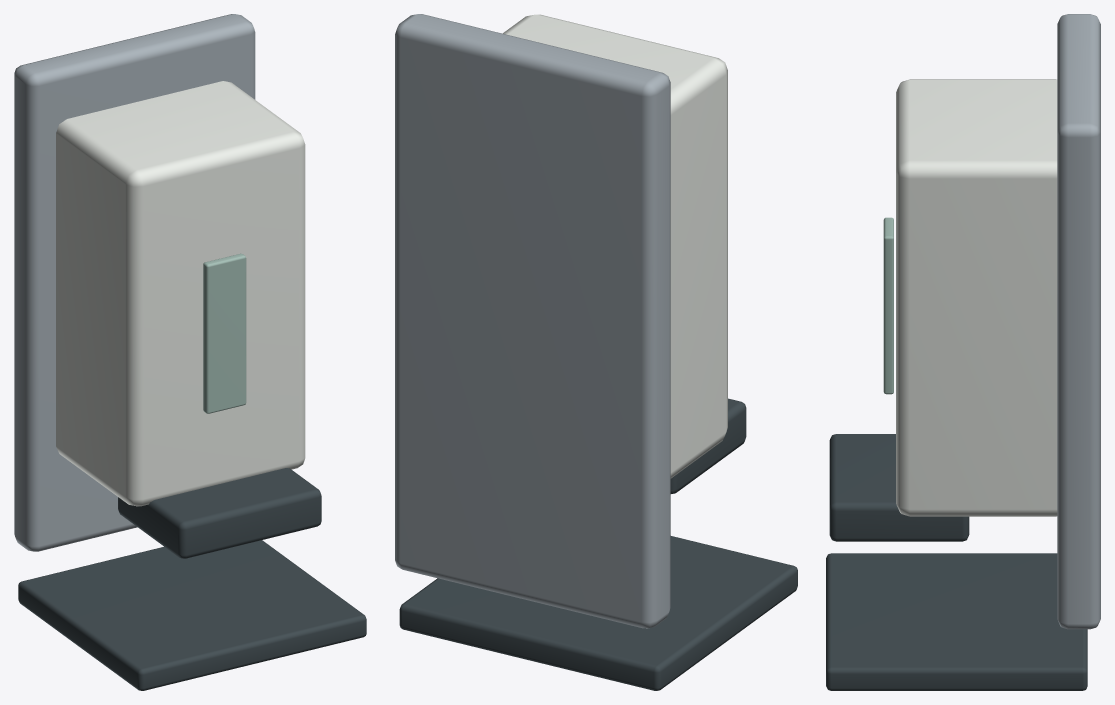
Rendered from handrub.fbx.
3 renders of one model, left to right at view 1: azimuth 30°, elevation 25°; view 2: azimuth 150°, elevation 25°; view 3: azimuth 270°, elevation 25°, orthographic. The views are drawn at different scales.
Parts seen in each view (by area): view 1: EQ_handrub_M_Ivory, EQ_handrub_M_PlasticGrey, EQ_handrub_M_SteelBrushed, EQ_handrub_M_Sage; view 2: EQ_handrub_M_SteelBrushed, EQ_handrub_M_PlasticGrey, EQ_handrub_M_Ivory; view 3: EQ_handrub_M_Ivory, EQ_handrub_M_PlasticGrey, EQ_handrub_M_SteelBrushed, EQ_handrub_M_Sage.
Boxes of the visible parts, x1=… form: EQ_handrub_M_Ivory: x1=56, y1=81, x2=305, y2=506; EQ_handrub_M_PlasticGrey: x1=18, y1=468, x2=366, y2=690; EQ_handrub_M_SteelBrushed: x1=14, y1=14, x2=255, y2=551; EQ_handrub_M_Sage: x1=203, y1=253, x2=246, y2=413; EQ_handrub_M_SteelBrushed: x1=395, y1=14, x2=670, y2=628; EQ_handrub_M_PlasticGrey: x1=399, y1=398, x2=797, y2=690; EQ_handrub_M_Ivory: x1=503, y1=14, x2=727, y2=478; EQ_handrub_M_Ivory: x1=896, y1=79, x2=1057, y2=516; EQ_handrub_M_PlasticGrey: x1=826, y1=434, x2=1087, y2=690; EQ_handrub_M_SteelBrushed: x1=1057, y1=14, x2=1100, y2=629; EQ_handrub_M_Sage: x1=883, y1=217, x2=893, y2=394.
Size of the model in its own units: 0.16 by 0.3575 by 0.1575.
